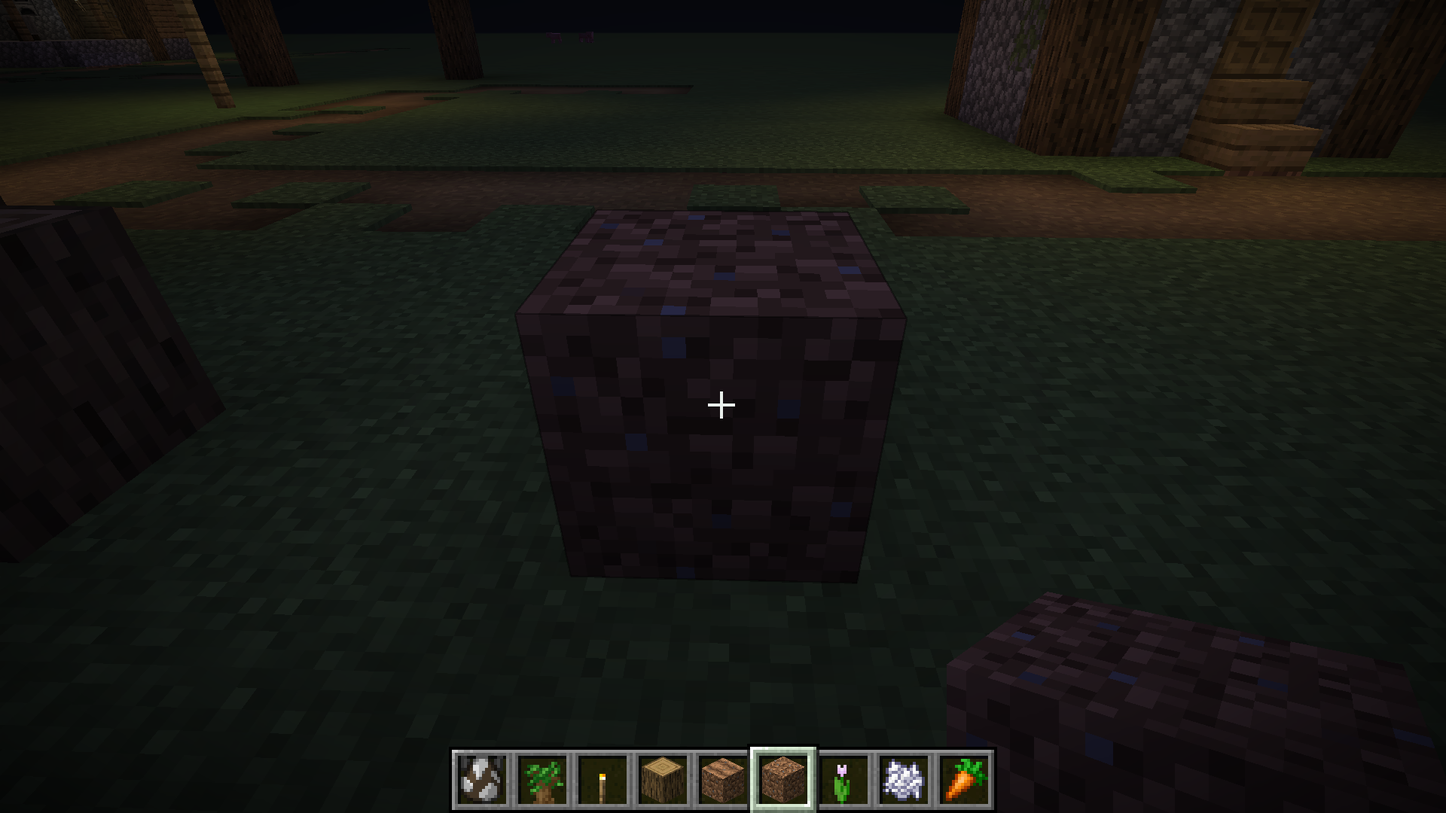cablestone: (1136, 85, 1188, 136), (970, 67, 1015, 121)
dirt: (538, 211, 897, 590), (524, 310, 924, 589), (571, 208, 881, 354)
wood: (0, 210, 227, 501)
